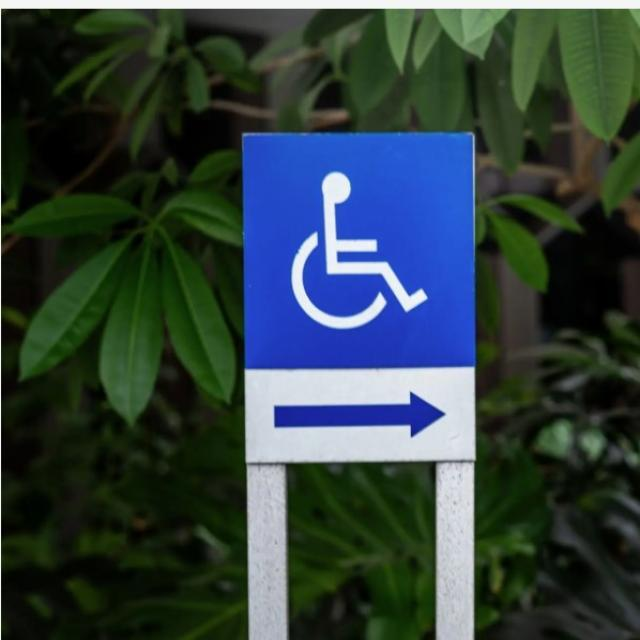symbol_of_access: (238, 128, 477, 370)
